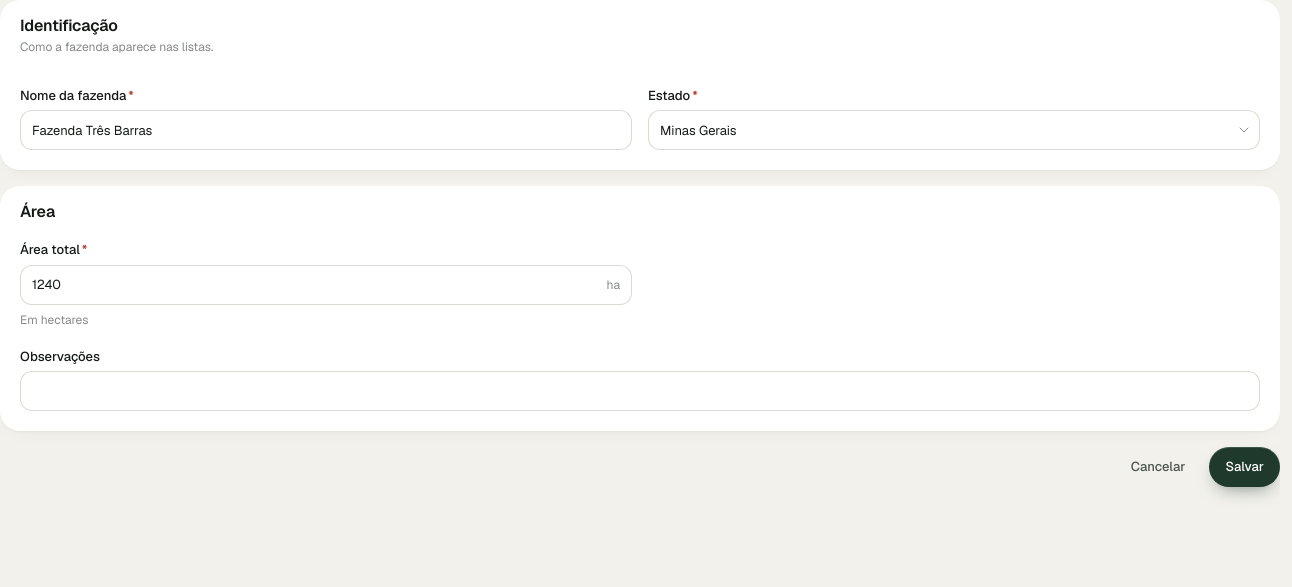
Test: EntityForm › rejeição qualquer vira uma mensagem genérica em pt-BR, sem vazar o texto técnico
Step 1. Click the button "Salvar" → (1245, 467), box left=1210, top=447, right=1280, bottom=487
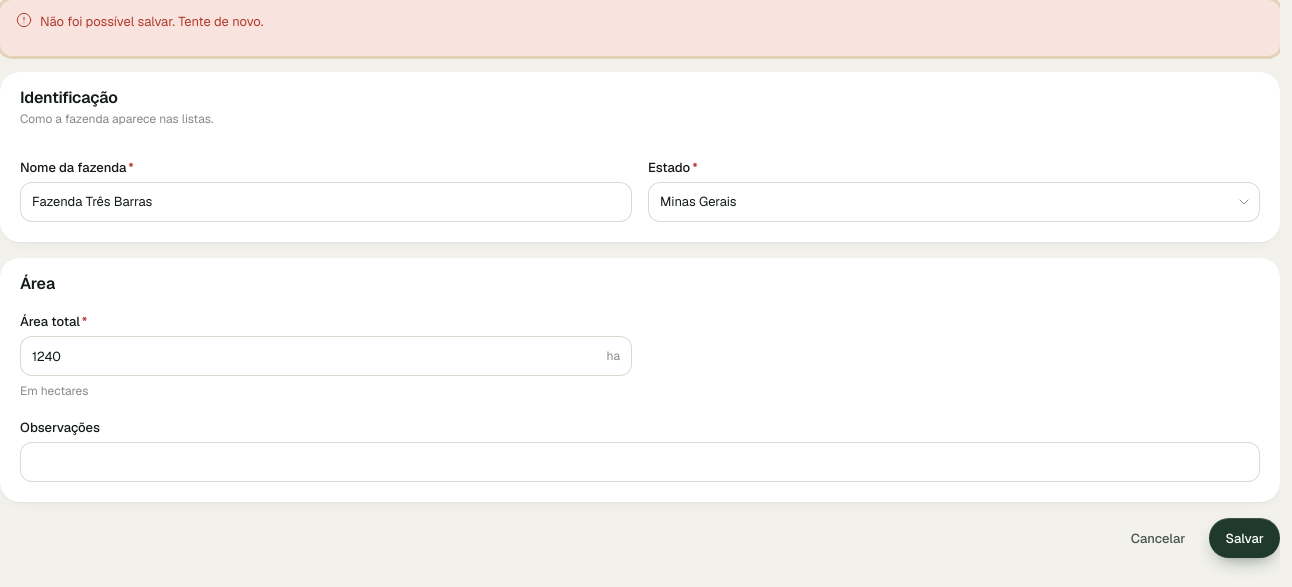
Expected: the message does not show "Failed to fetch", left=0, top=0, right=1280, bottom=56
Now the message reads "Não foi possível salvar. Tente de novo.", box left=40, top=13, right=263, bottom=30
